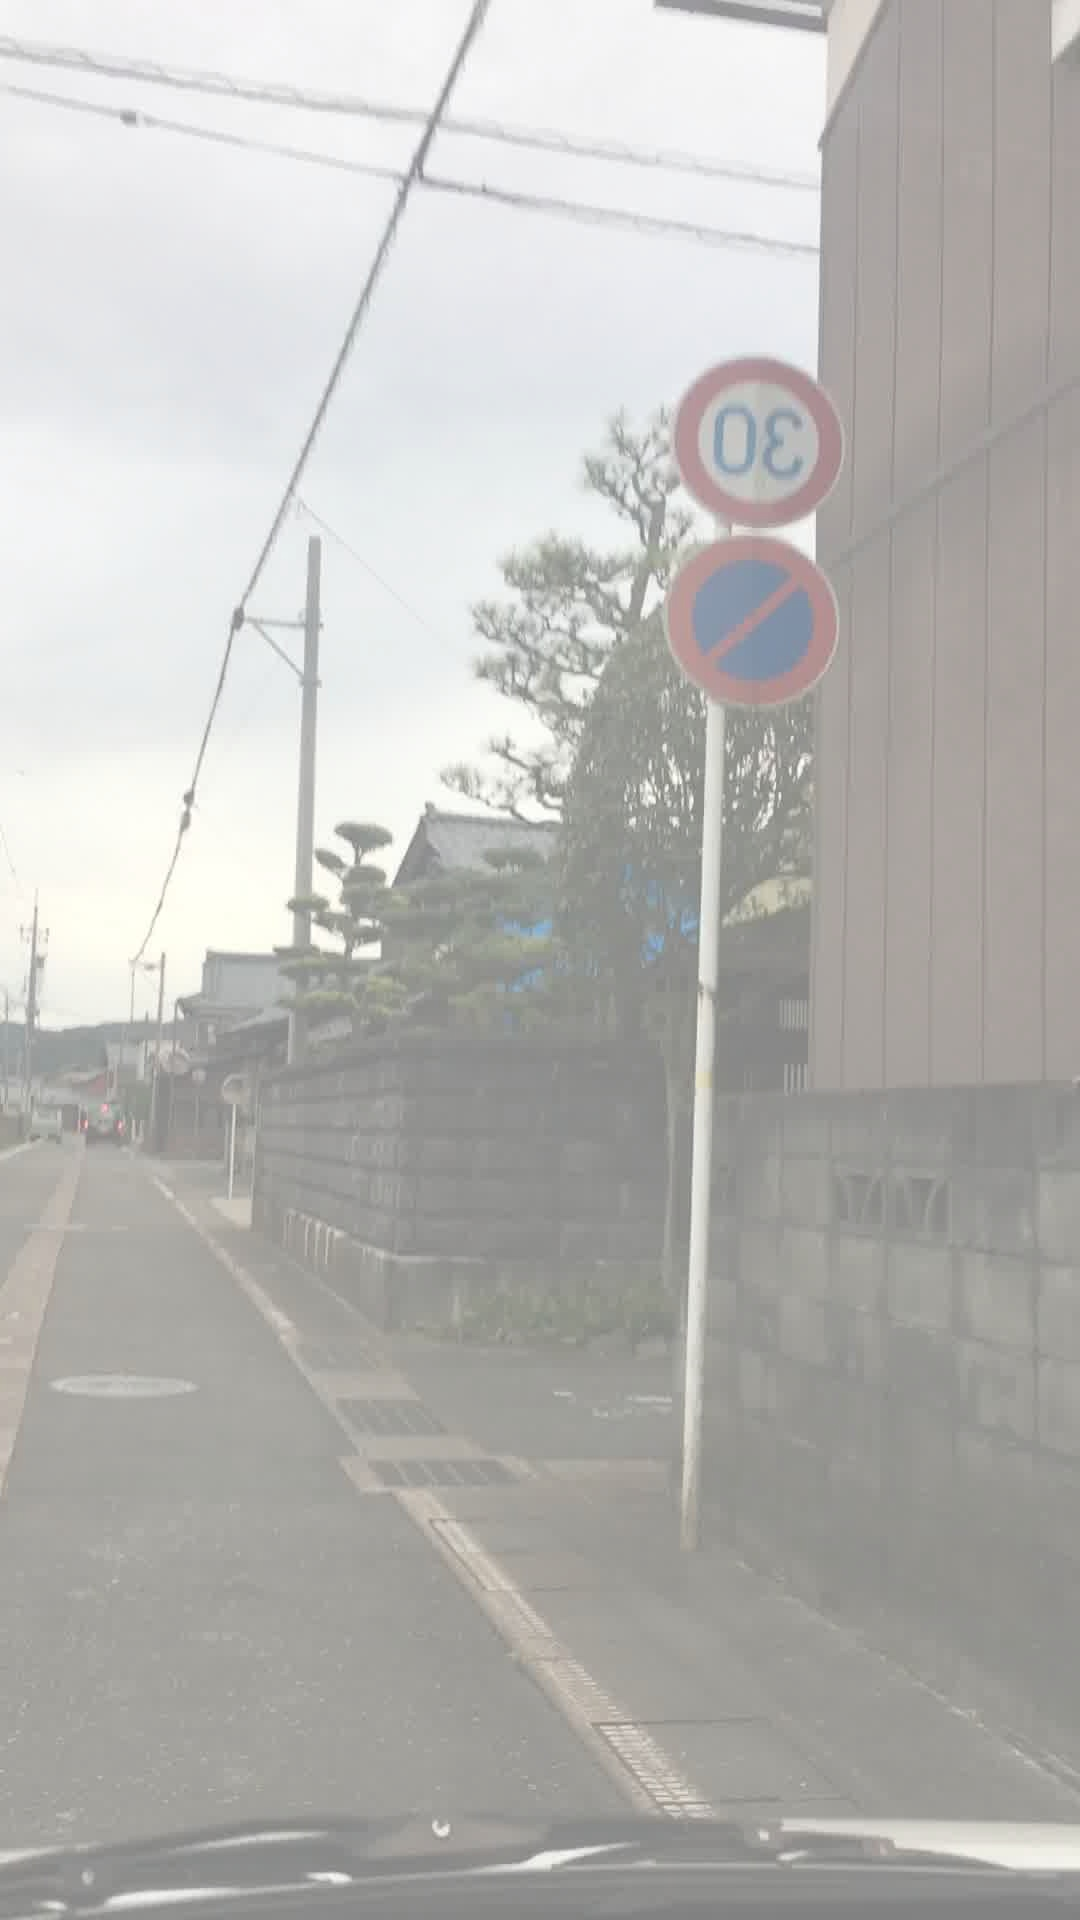Prohibition_sign: (650, 530, 828, 704)
Speed_sign: (682, 342, 840, 527)
